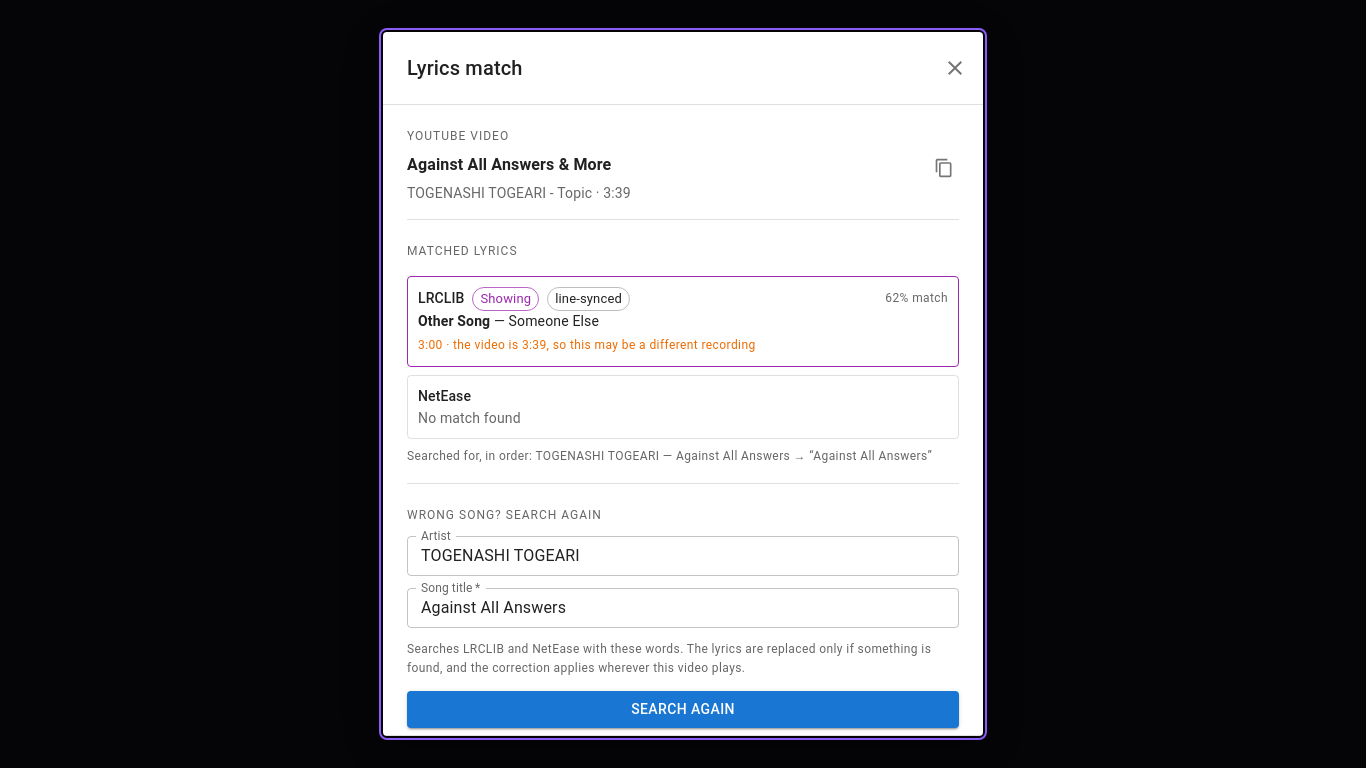
it: lyrics match screen › starts from the last search and sends a corrected one
The width and height of the screenshot is (1366, 768).
Expected: the field labelled "Song title *" holds "Against All Answers", [407,588,959,628]
Replace the text in the field labelled "Artist" with "トゲナシトゲアリ": (683, 556) [407,536,959,576]
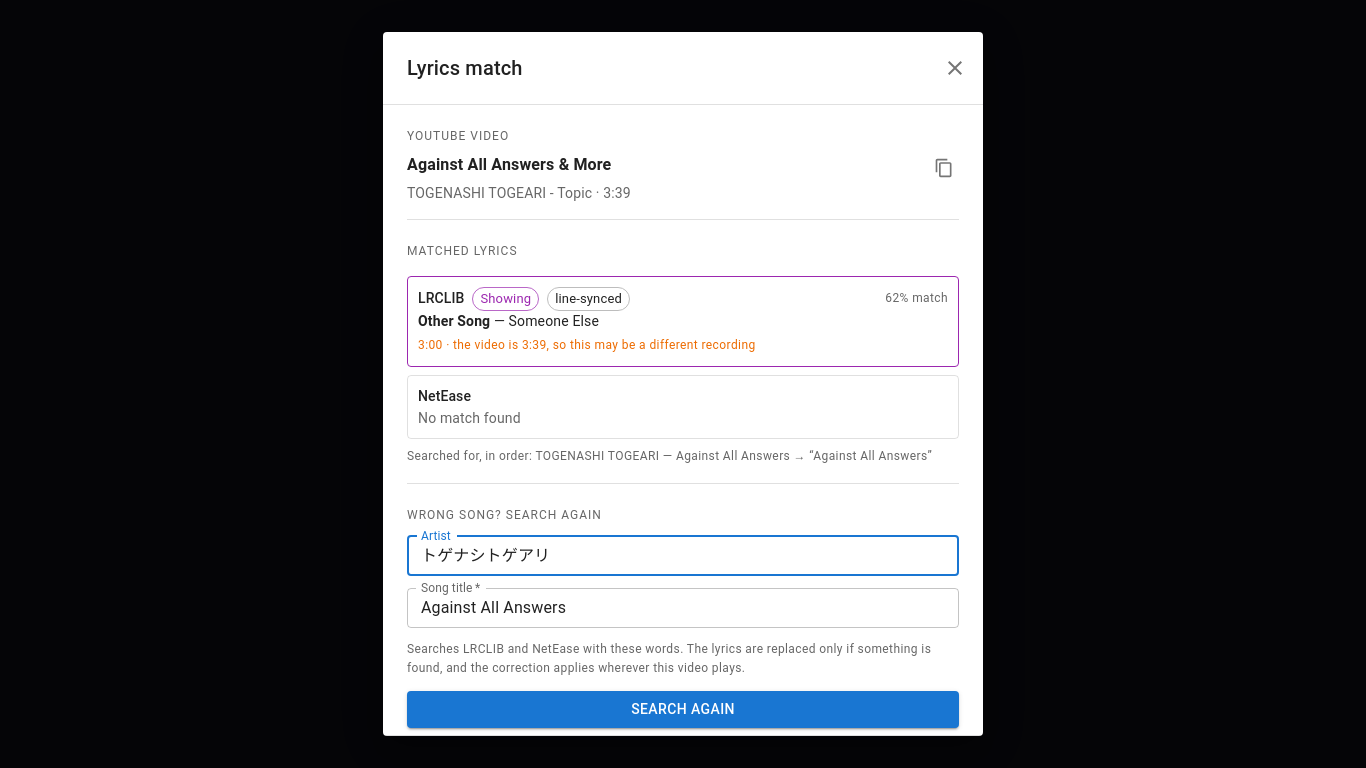
Click the button "Search again": (683, 710) [407,691,959,728]
(page scrolled)
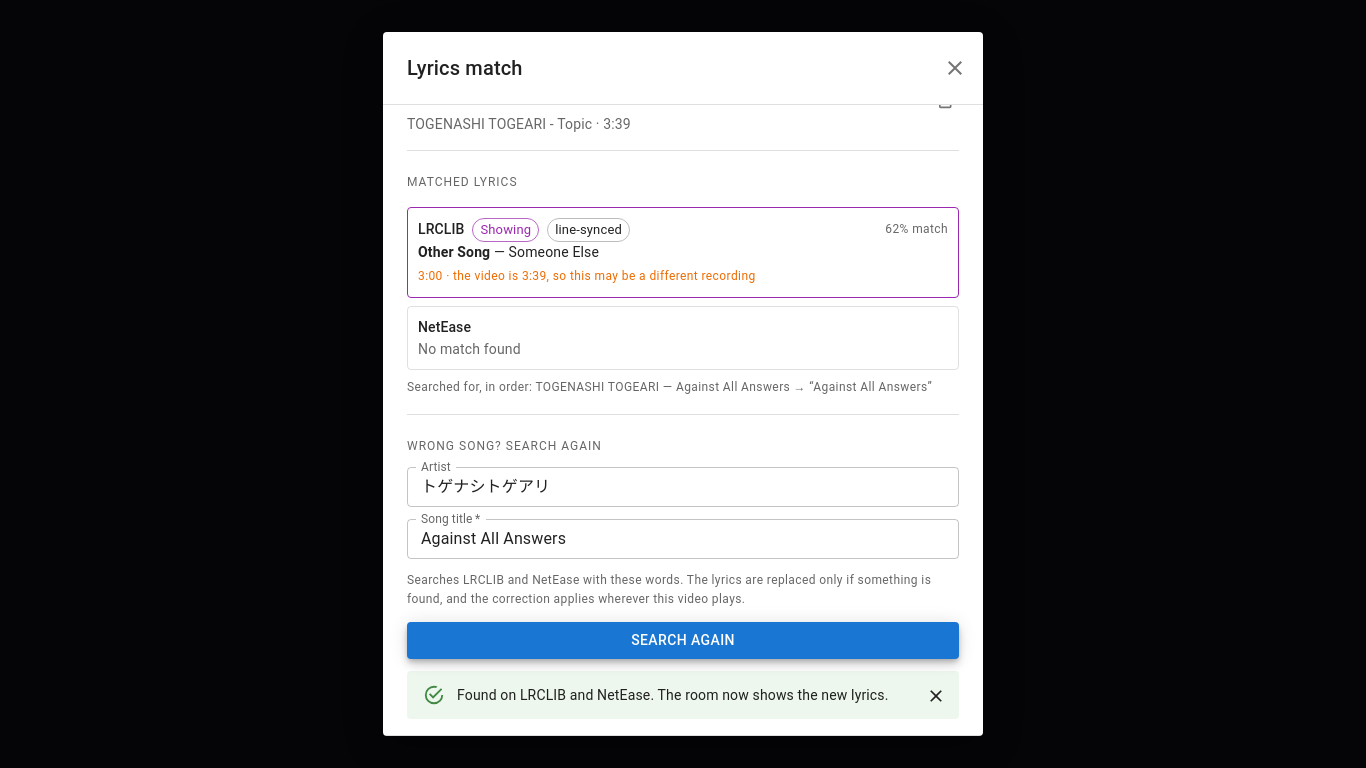
Expected: the text "Found on LRCLIB and NetEase" is shown, [457,687,889,703]
